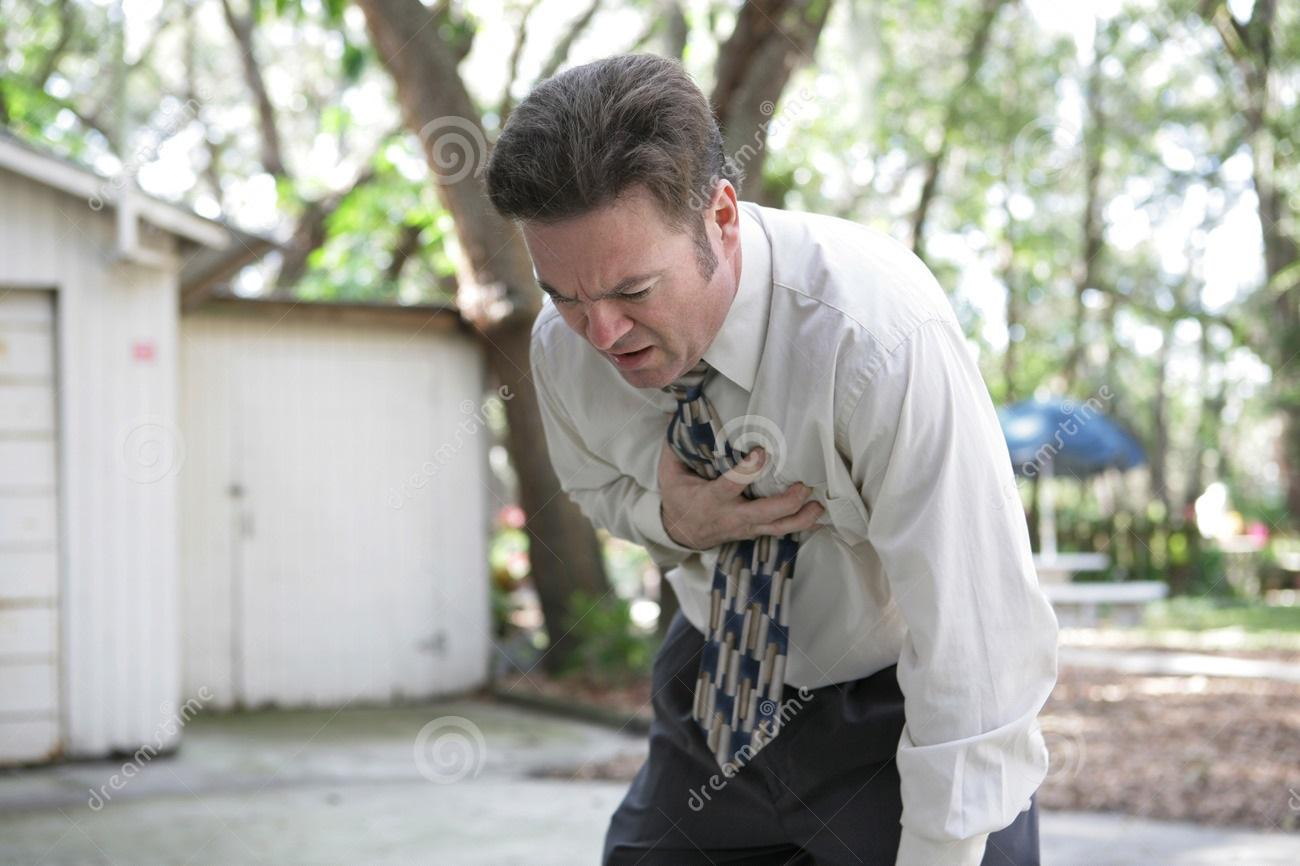pain: (519, 258, 685, 316)
